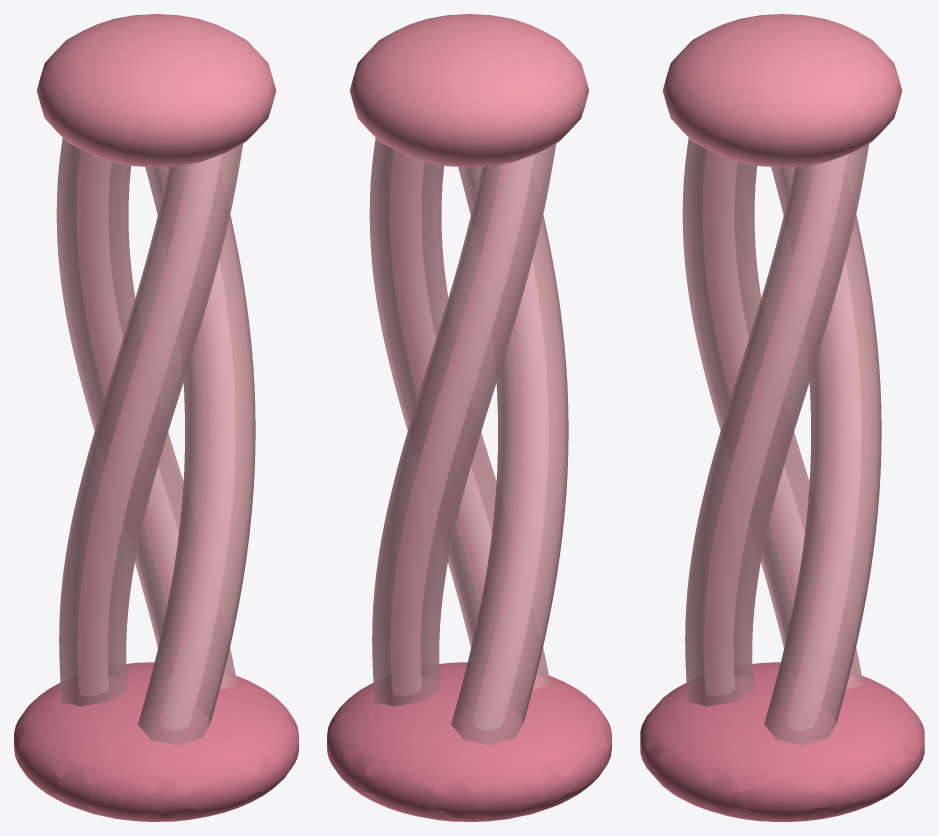
File: E37_Capillary_Column.glb
3 renders of one model, left to right at view 1: azimuth 30°, elevation 25°; view 2: azimuth 150°, elevation 25°; view 3: azimuth 270°, elevation 25°, orthographic.
Visible parts, largest first — view 1: E37_Capillary_Column_Mesh; view 2: E37_Capillary_Column_Mesh; view 3: E37_Capillary_Column_Mesh.
Boxes of the visible parts, <box> form: E37_Capillary_Column_Mesh: <box>14,14,298,821</box>; E37_Capillary_Column_Mesh: <box>327,14,611,821</box>; E37_Capillary_Column_Mesh: <box>640,14,924,821</box>.
Bounding box in the file's own units: 3.56 × 10.52 × 3.56.
